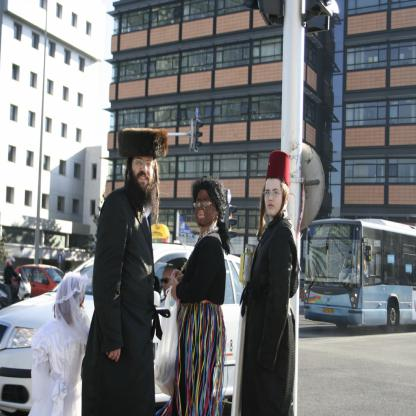Bus: (304, 217, 416, 330)
